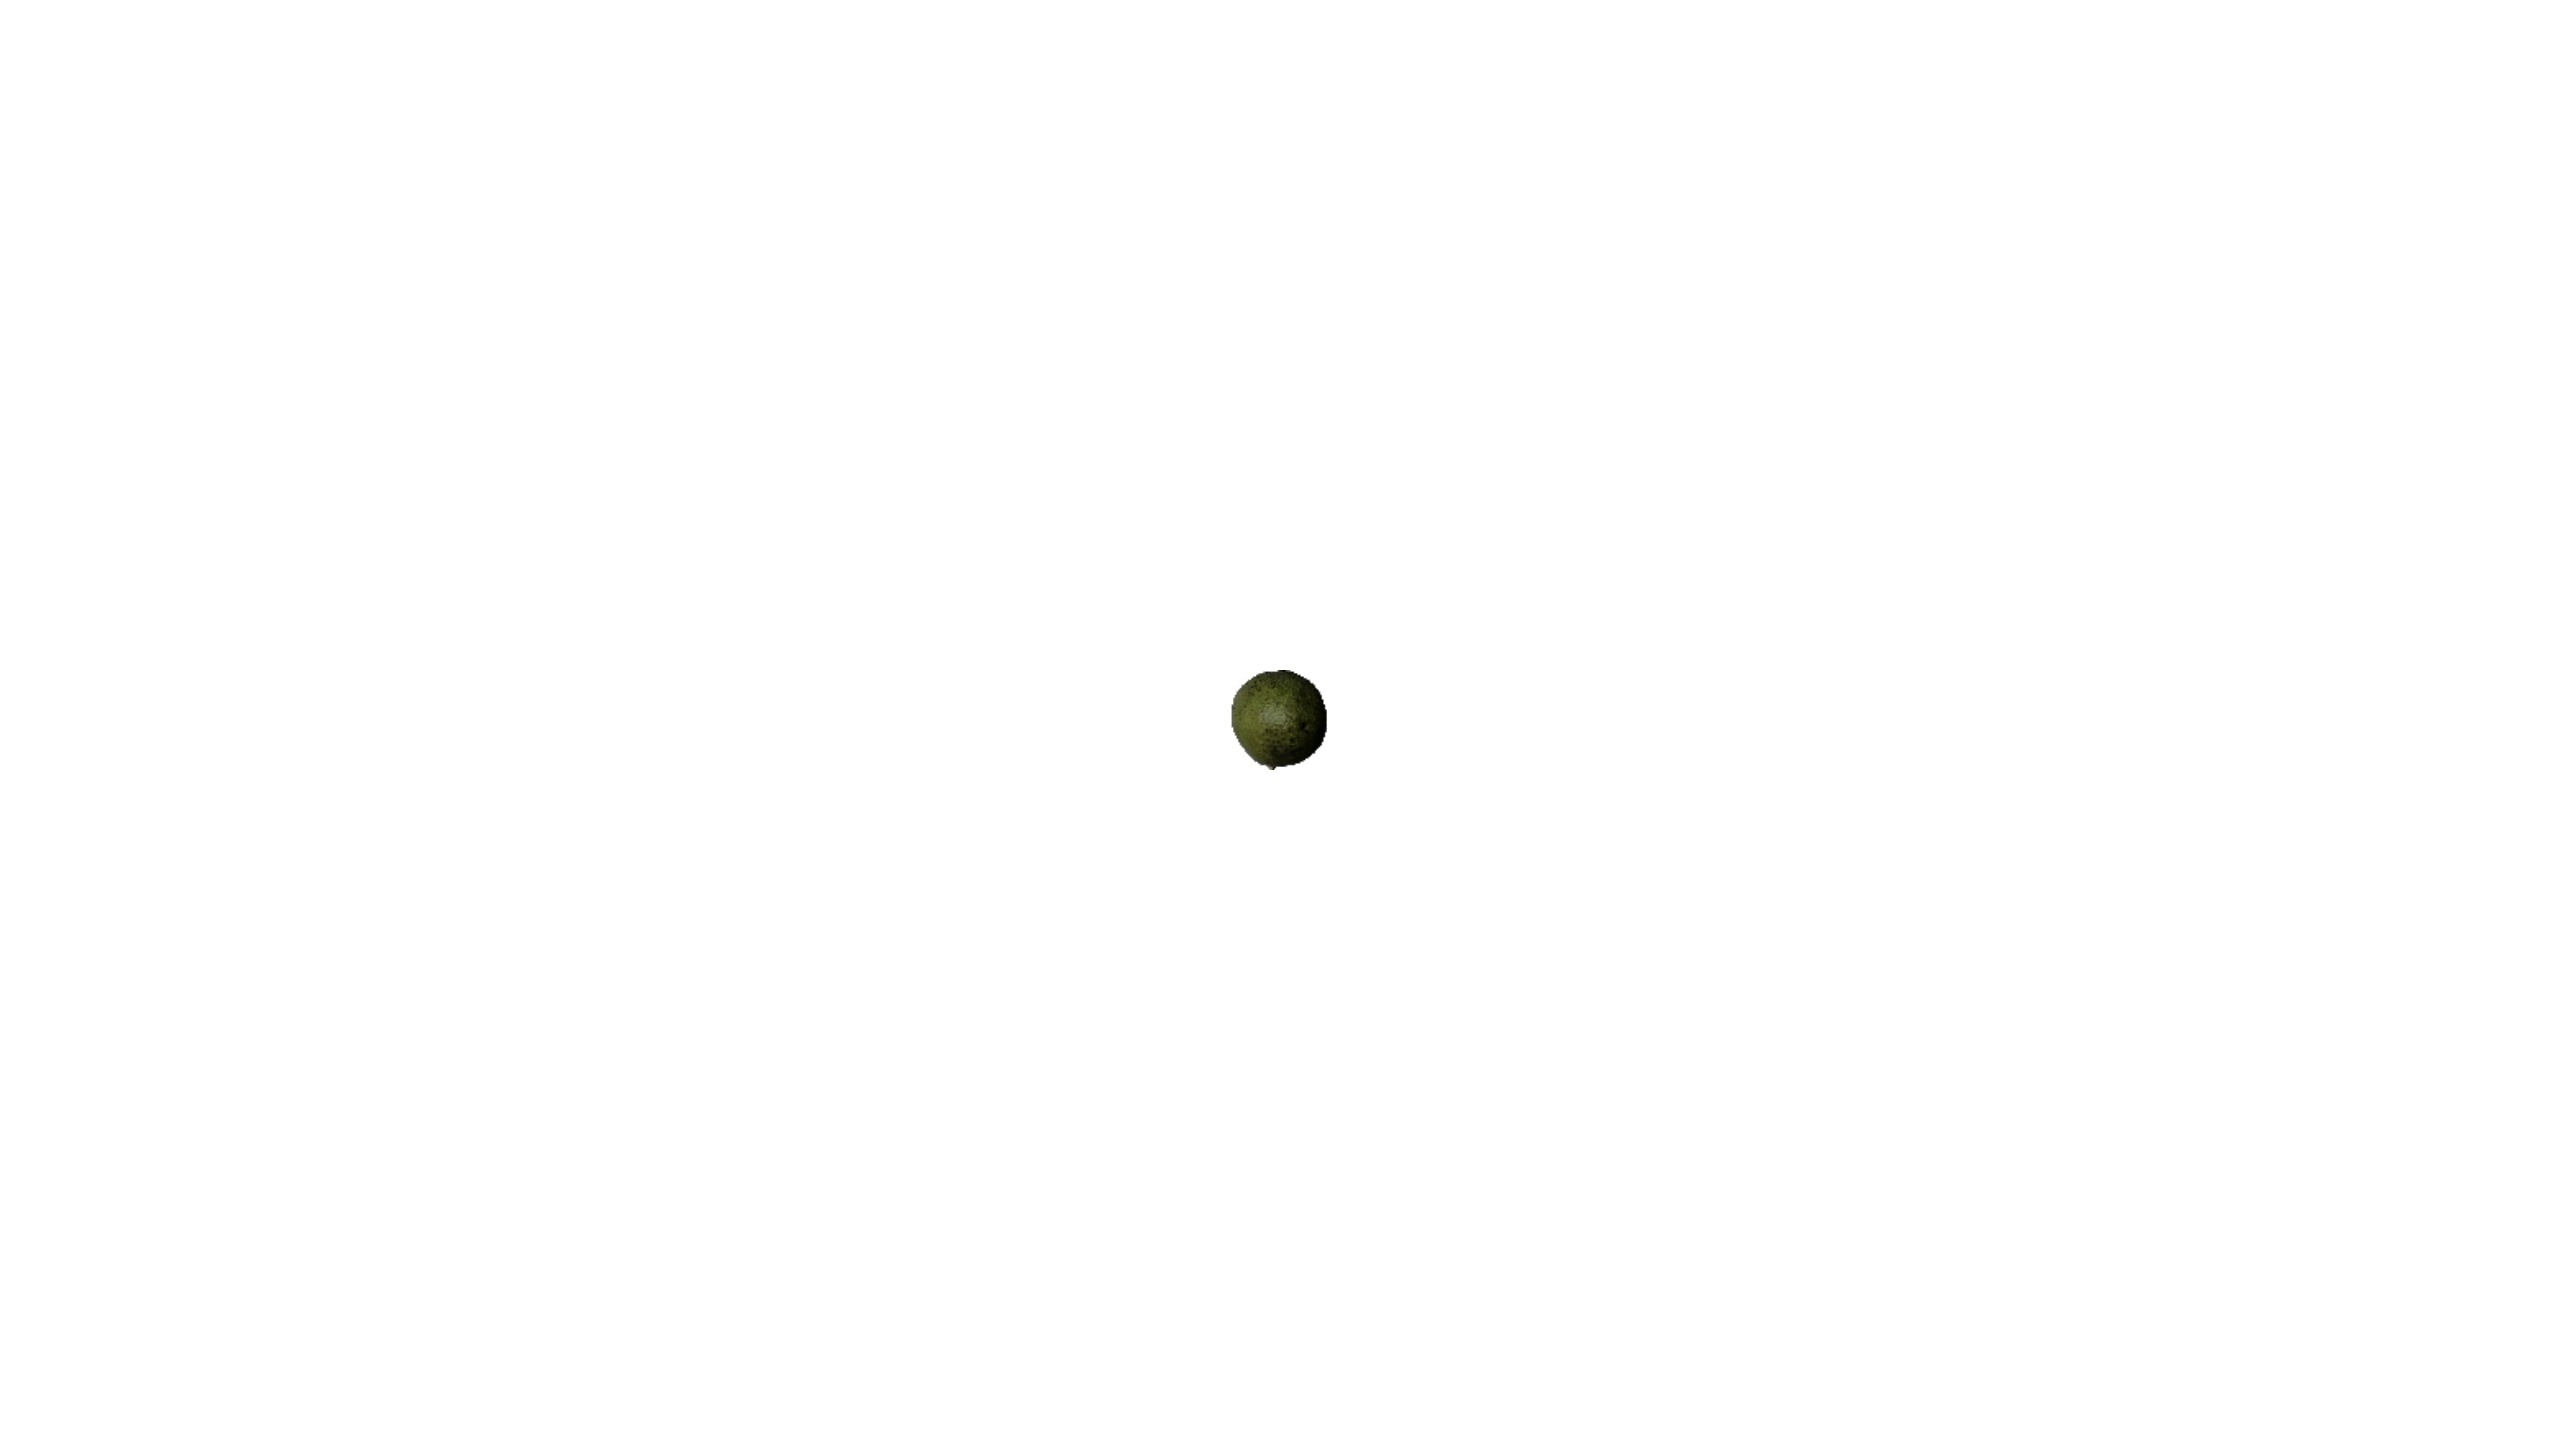abacate: (1227, 663, 1336, 768)
